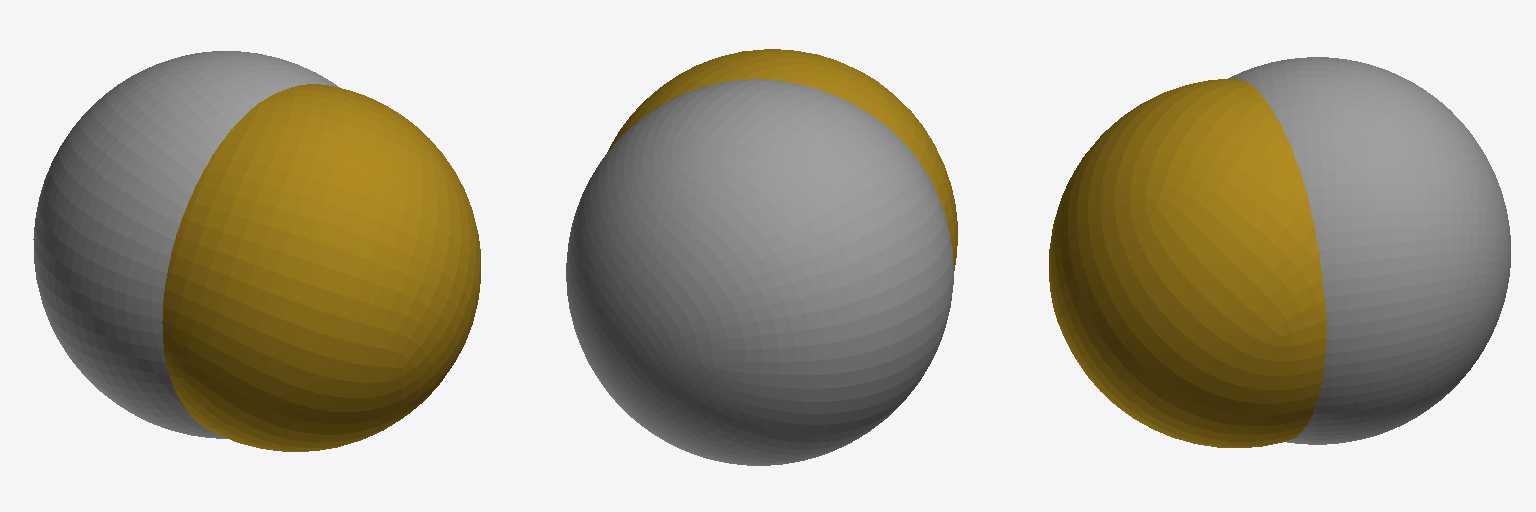
Rendered from sweet_smile.obj.
3 renders of one model, left to right at view 1: azimuth 30°, elevation 25°; view 2: azimuth 150°, elevation 25°; view 3: azimuth 270°, elevation 25°, orthographic.
Visible parts, largest first — view 1: Group1201, Group7782; view 2: Group7782, Group1201; view 3: Group1201, Group7782.
Part boxes in pixels (left/top/right/bottom): Group1201: left=162, top=84, right=480, bottom=451; Group7782: left=33, top=51, right=339, bottom=438; Group7782: left=566, top=79, right=953, bottom=465; Group1201: left=607, top=49, right=957, bottom=270; Group1201: left=1049, top=78, right=1326, bottom=447; Group7782: left=1228, top=57, right=1510, bottom=444.
Size of the model in its own units: 2.32 by 2.19 by 2.61.